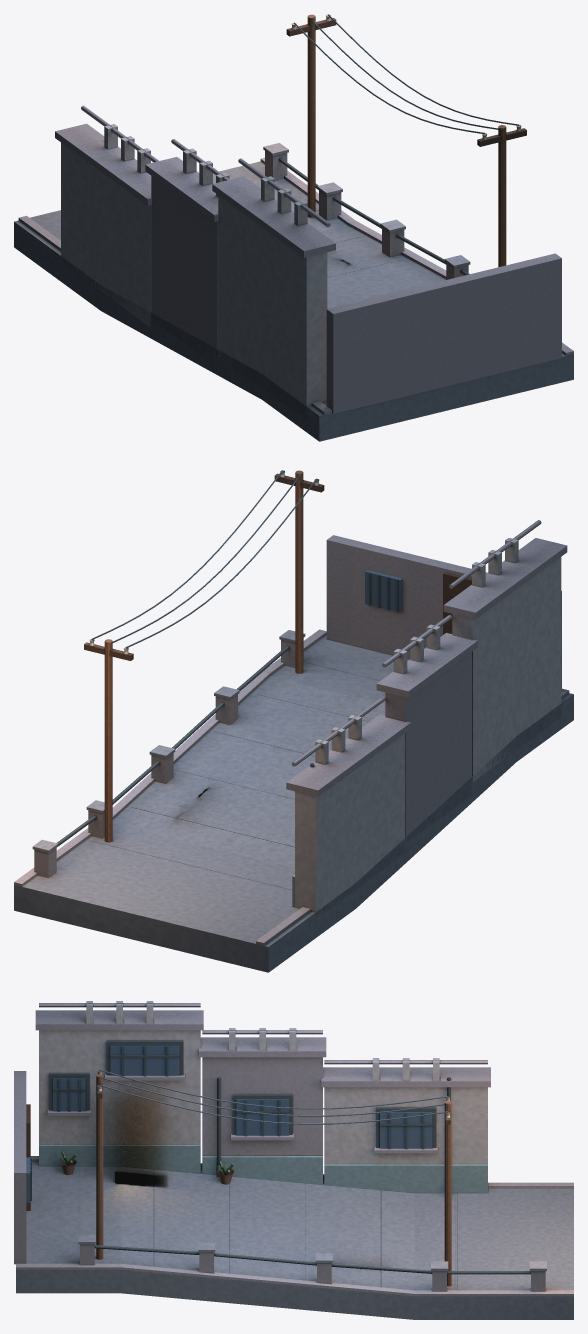
The model's file is dusk-bank.glb.
3 renders of one model, top to bottom at view 1: azimuth 30°, elevation 25°; view 2: azimuth 150°, elevation 25°; view 3: azimuth 270°, elevation 25°, orthographic. The views are drawn at different scales.
Visible parts, largest first — view 1: DuskMasonry; view 2: DuskMasonry; view 3: DuskMasonry.
Part boxes in pixels (x1=…): DuskMasonry: x1=14, y1=14, x2=573, y2=441; DuskMasonry: x1=14, y1=470, x2=573, y2=972; DuskMasonry: x1=14, y1=1001, x2=573, y2=1319.
Bounding box in the file's own units: 6.51 × 6.12 × 13.35.
Materials: 1 (1 with a texture image).
